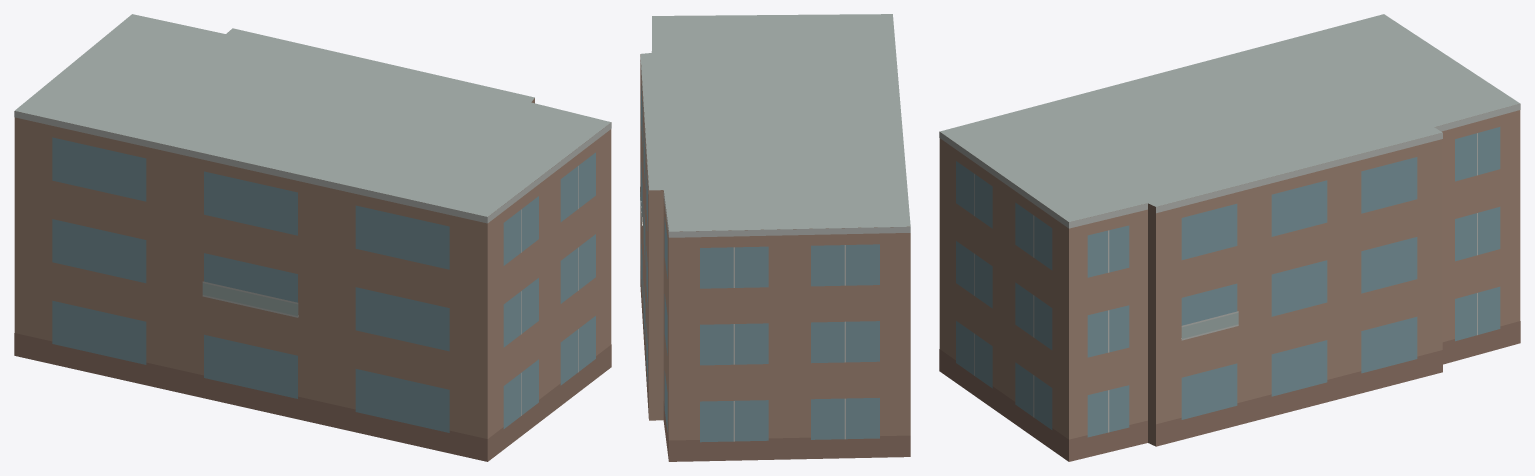
File: survey-upis-32665932.glb
3 renders of one model, left to right at view 1: azimuth 30°, elevation 25°; view 2: azimuth 150°, elevation 25°; view 3: azimuth 270°, elevation 25°, orthographic. The views are drawn at different scales.
Parts seen in each view (by area): view 1: survey-upis-32665932.tmp; view 2: survey-upis-32665932.tmp; view 3: survey-upis-32665932.tmp.
Part boxes in pixels (left/top/right/bottom): survey-upis-32665932.tmp: left=14, top=14, right=611, bottom=461; survey-upis-32665932.tmp: left=640, top=14, right=910, bottom=461; survey-upis-32665932.tmp: left=939, top=14, right=1520, bottom=461.
Size of the model in its own units: 17.06 by 9.15 by 20.11.
